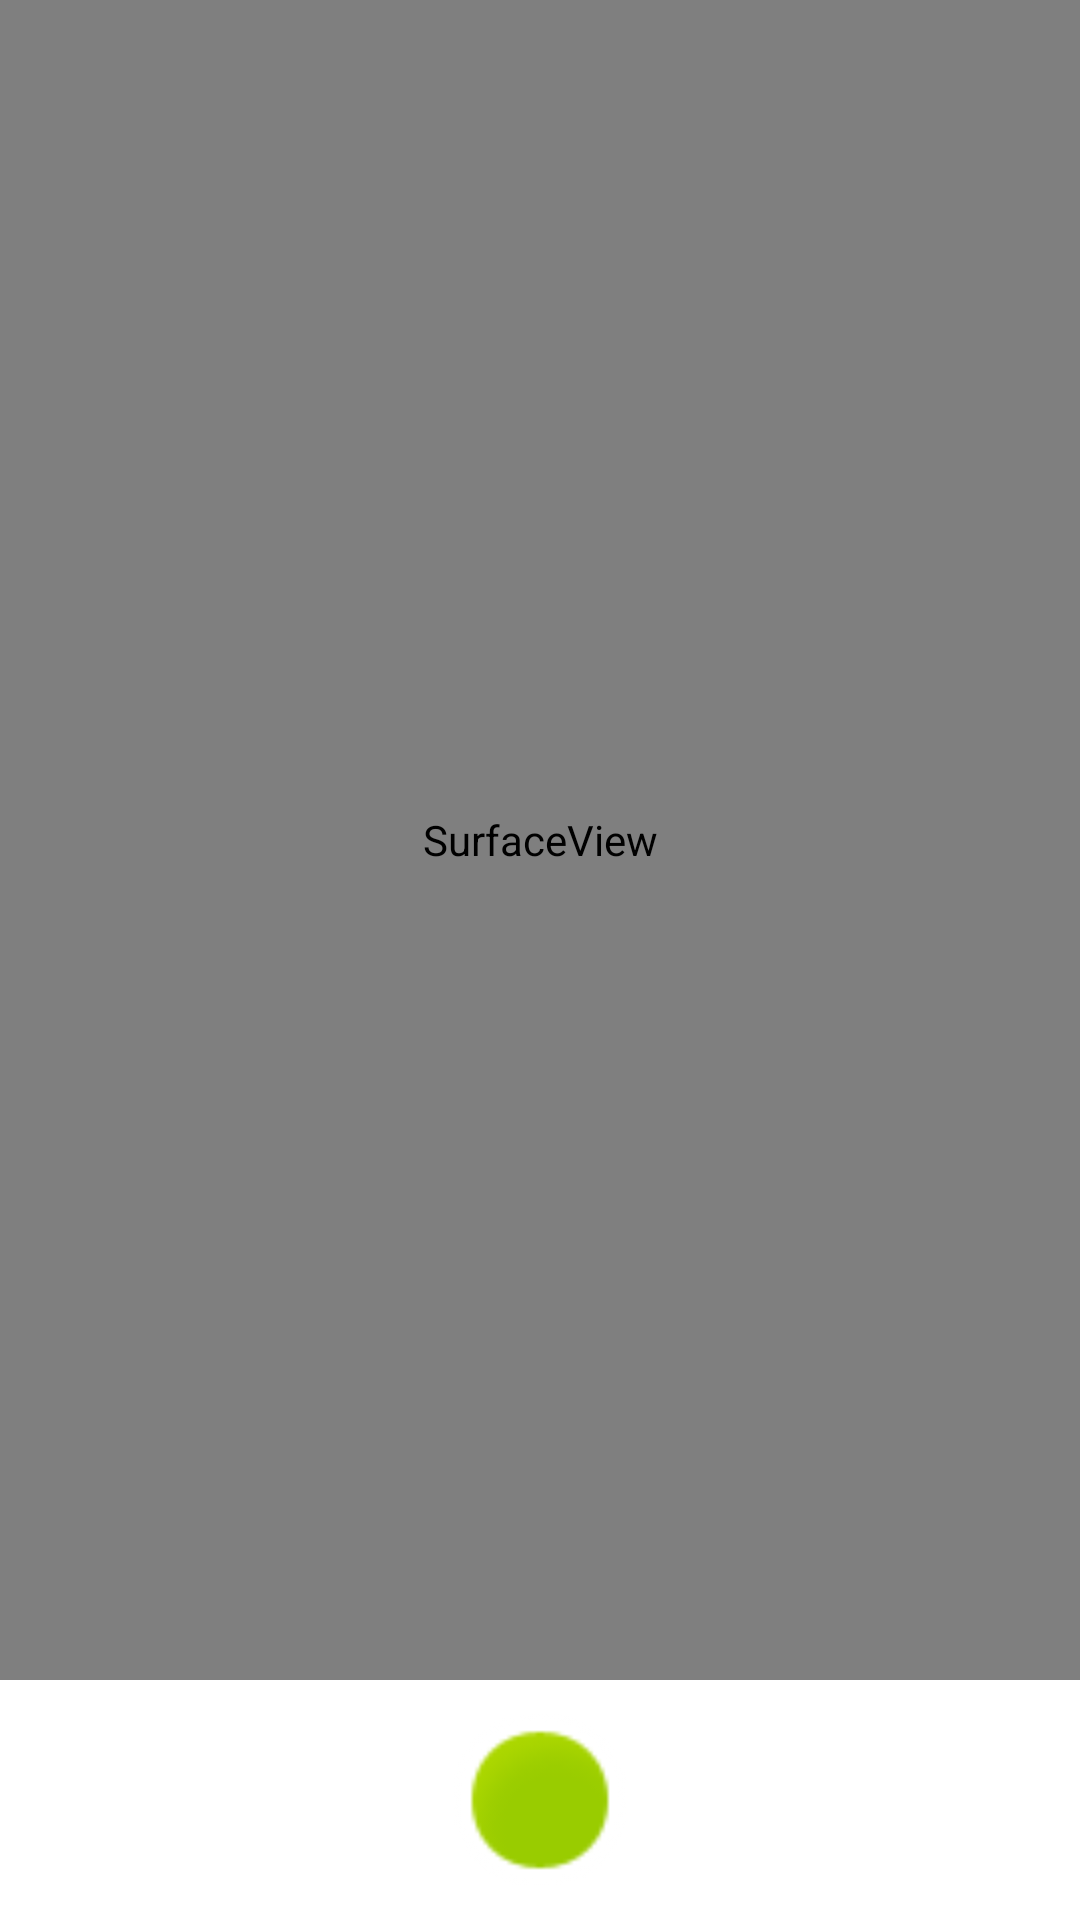

Screen size 1080px x 1920px. Icon name, then its box in pixels as (x1, y1, x2, y2):
presence online: (470, 1730, 610, 1870)
